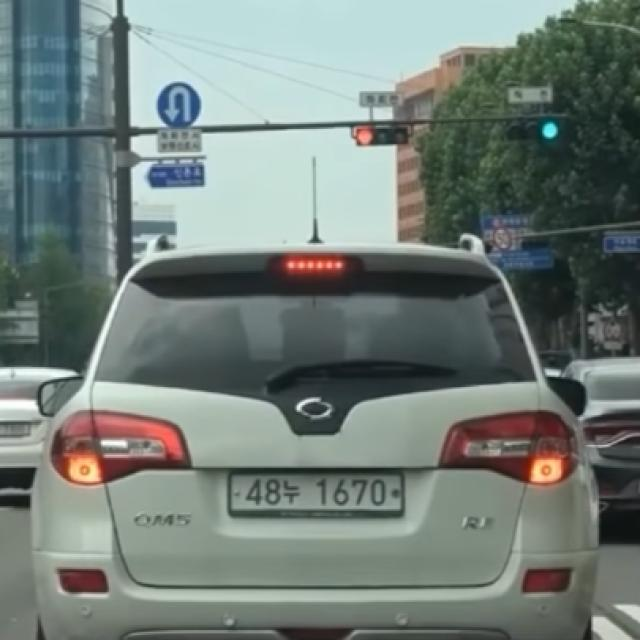Green Light: (541, 120, 558, 138)
Red Light: (357, 126, 374, 145)
